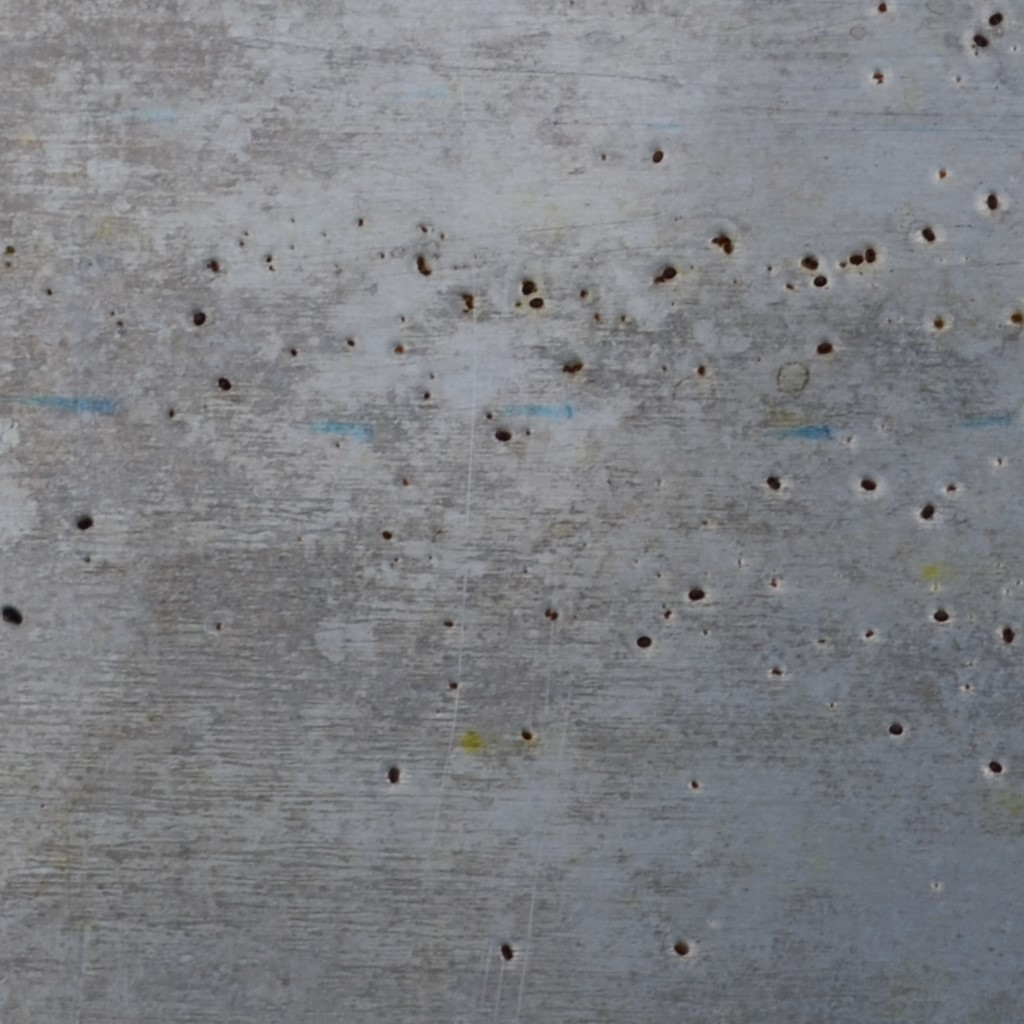varroa: (0, 599, 26, 629), (916, 495, 937, 523), (73, 508, 94, 535), (798, 250, 823, 272), (763, 471, 785, 494), (671, 938, 694, 960), (384, 764, 404, 788), (634, 630, 655, 651), (498, 940, 518, 962), (492, 425, 515, 444), (969, 28, 989, 49), (858, 474, 878, 495), (930, 605, 951, 625), (815, 337, 835, 358), (685, 585, 707, 604), (999, 622, 1017, 645), (919, 225, 940, 244), (984, 189, 1001, 212), (847, 250, 864, 273), (985, 9, 1005, 28), (886, 719, 905, 739), (190, 308, 209, 327), (810, 272, 831, 289), (215, 373, 232, 393), (863, 244, 878, 266), (988, 756, 1005, 775), (651, 146, 666, 166), (518, 280, 538, 295), (662, 264, 679, 281), (528, 295, 547, 310)
